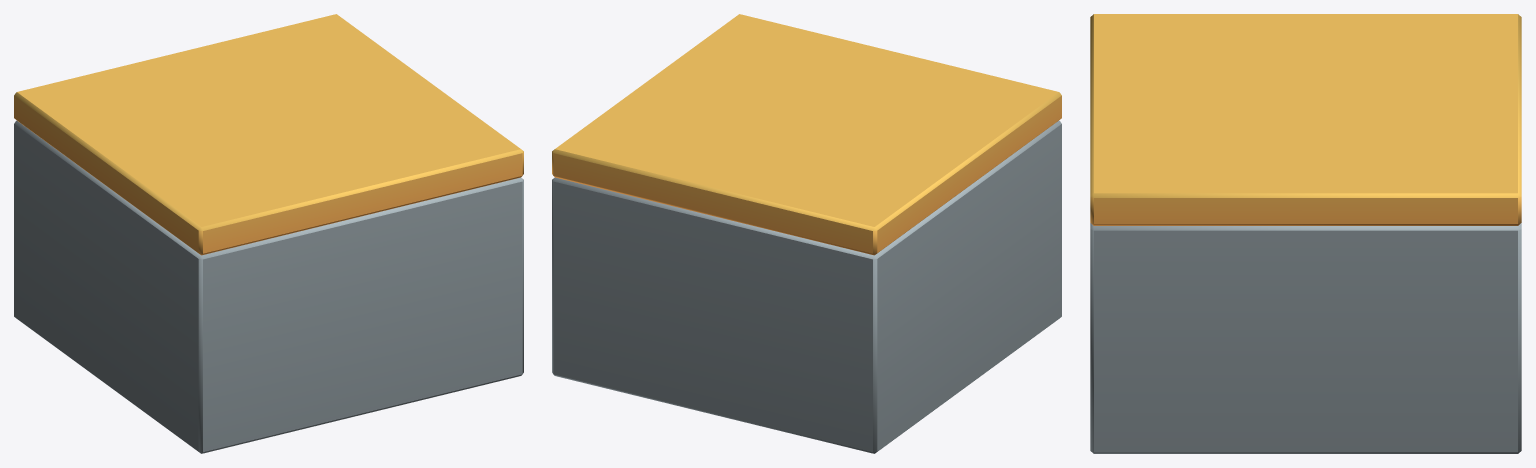
File: platform_6x6x4_yellow.glb
3 views of the same model, side by side, from view 1: azimuth 30°, elevation 25°; view 2: azimuth 150°, elevation 25°; view 3: azimuth 270°, elevation 25° (orthographic). The views are drawn at different scales.
Parts seen in each view (by area): view 1: platform_6x6x4_yellow; view 2: platform_6x6x4_yellow; view 3: platform_6x6x4_yellow.
Part boxes in pixels (x1,y1,x2,y2): platform_6x6x4_yellow: (14, 14, 523, 453); platform_6x6x4_yellow: (552, 14, 1061, 453); platform_6x6x4_yellow: (1090, 14, 1521, 453).
Size of the model in its own units: 6 by 4 by 6.
1 material, 1 textured.
